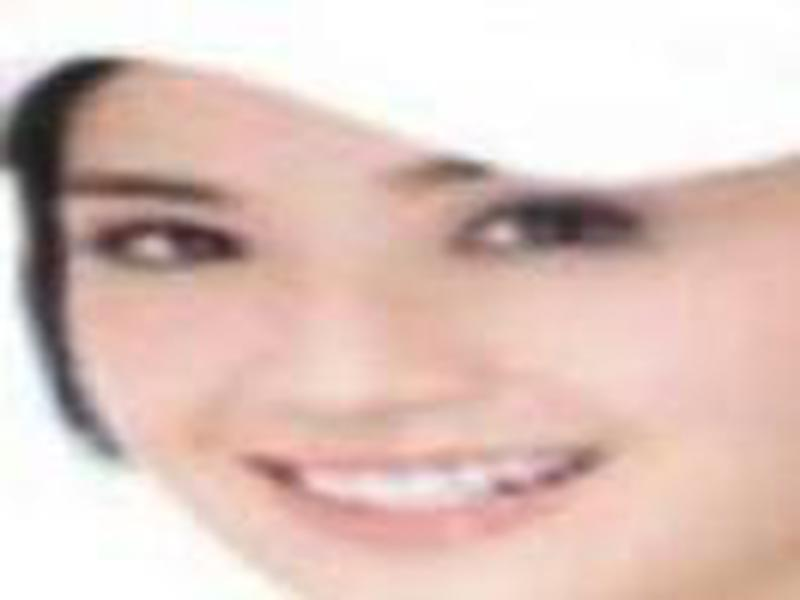without_mask: (10, 68, 800, 600)
